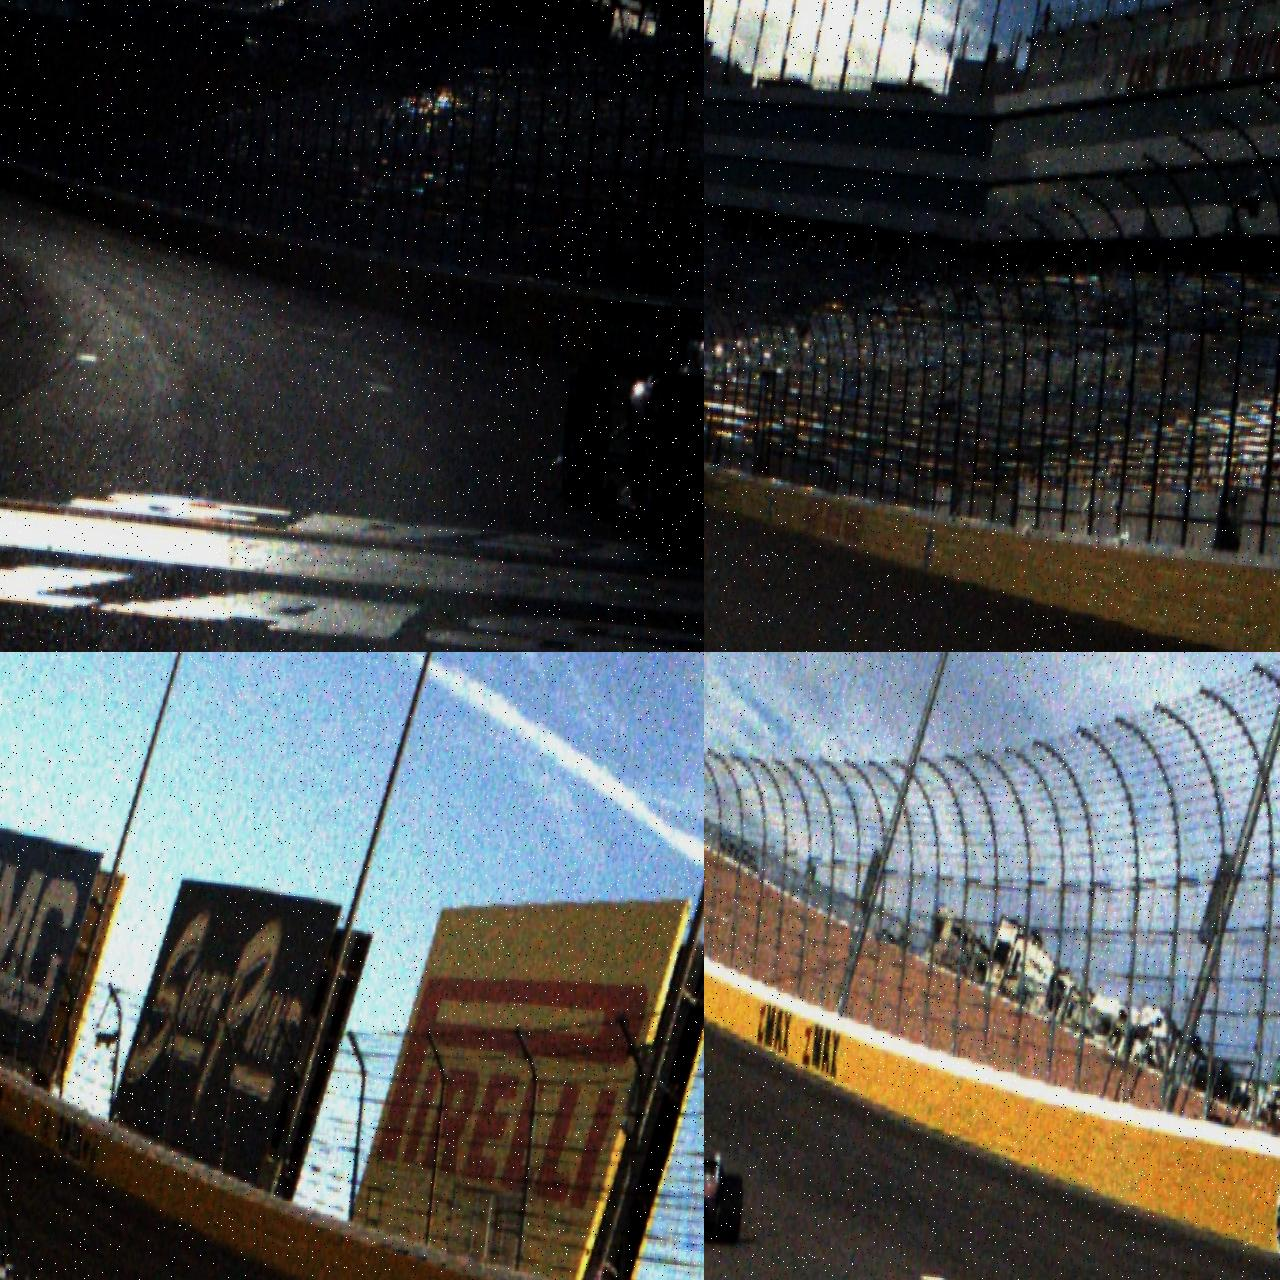AV: (544, 217, 704, 580), (704, 1101, 752, 1247)
Wheel: (632, 370, 704, 557), (558, 364, 614, 504), (714, 1174, 744, 1248)
